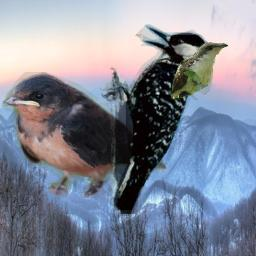Cuckoo: (170, 42, 228, 100)
Swallow: (2, 72, 167, 198)
Woodpecker: (100, 24, 212, 214)
